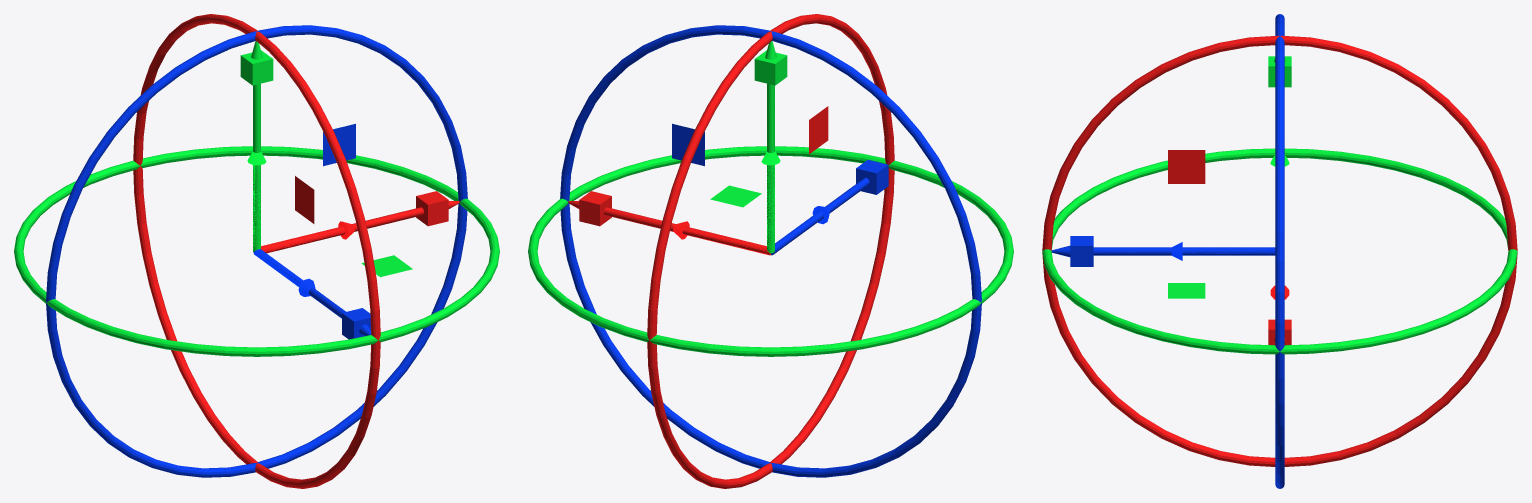
The model's file is gizmos.glb.
3 views of the same model, side by side, from view 1: azimuth 30°, elevation 25°; view 2: azimuth 150°, elevation 25°; view 3: azimuth 270°, elevation 25° (orthographic). The views are drawn at different scales.
Parts seen in each view (by area): view 1: rotate_z, rotate_x, rotate_y, y, x, scale_y, scale_x, xy, scale_z, orientation_z, yz, orientation_x (+2 smaller); view 2: rotate_z, rotate_x, rotate_y, y, x, scale_y, scale_z, scale_x, z, xy, orientation_x, yz (+2 smaller); view 3: rotate_x, rotate_y, rotate_z, z, yz, scale_z, xz, orientation_z.
Boxes of the visible parts, x1,y1,x2,y2 form: rotate_z: (46, 25, 467, 477); rotate_x: (133, 14, 380, 488); rotate_y: (14, 146, 499, 356); y: (251, 41, 262, 251); x: (261, 201, 459, 253); scale_y: (240, 50, 273, 251); scale_x: (262, 191, 448, 249); xy: (323, 123, 355, 166); scale_z: (309, 293, 370, 339); orientation_z: (253, 249, 315, 296); yz: (295, 176, 314, 223); orientation_x: (261, 221, 354, 252); rotate_z: (560, 25, 981, 477); rotate_x: (647, 14, 894, 488); rotate_y: (528, 146, 1013, 356); y: (765, 41, 776, 253); x: (568, 201, 770, 255); scale_y: (754, 50, 787, 249); scale_z: (774, 160, 888, 253); scale_x: (579, 191, 766, 249); z: (771, 177, 869, 255); xy: (672, 123, 704, 166); orientation_x: (673, 221, 768, 254); yz: (809, 106, 828, 154); rotate_x: (1042, 35, 1517, 466); rotate_y: (1042, 148, 1517, 354); rotate_z: (1275, 14, 1284, 488); z: (1051, 245, 1275, 257); yz: (1168, 150, 1205, 183); scale_z: (1070, 236, 1275, 266); xz: (1168, 283, 1205, 298); orientation_z: (1171, 242, 1275, 260).
Size of the model in its own units: 2.04 by 2.04 by 2.04.
